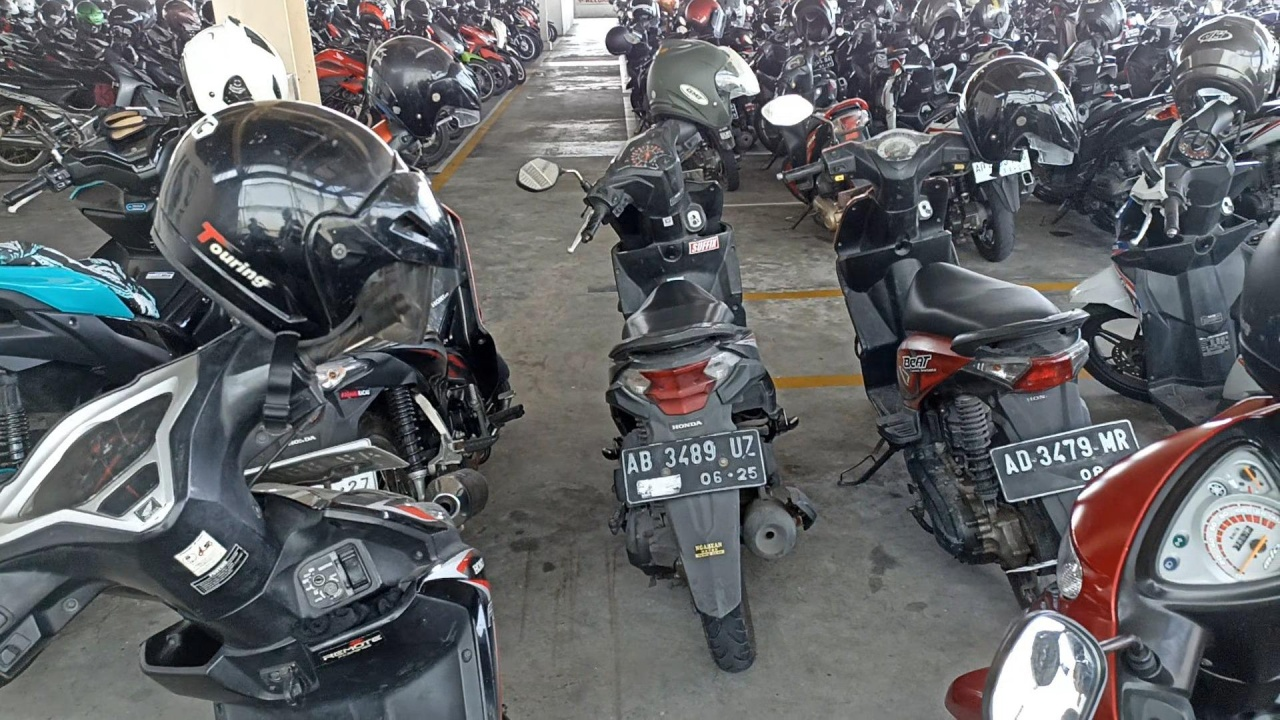plate: (623, 428, 768, 506)
